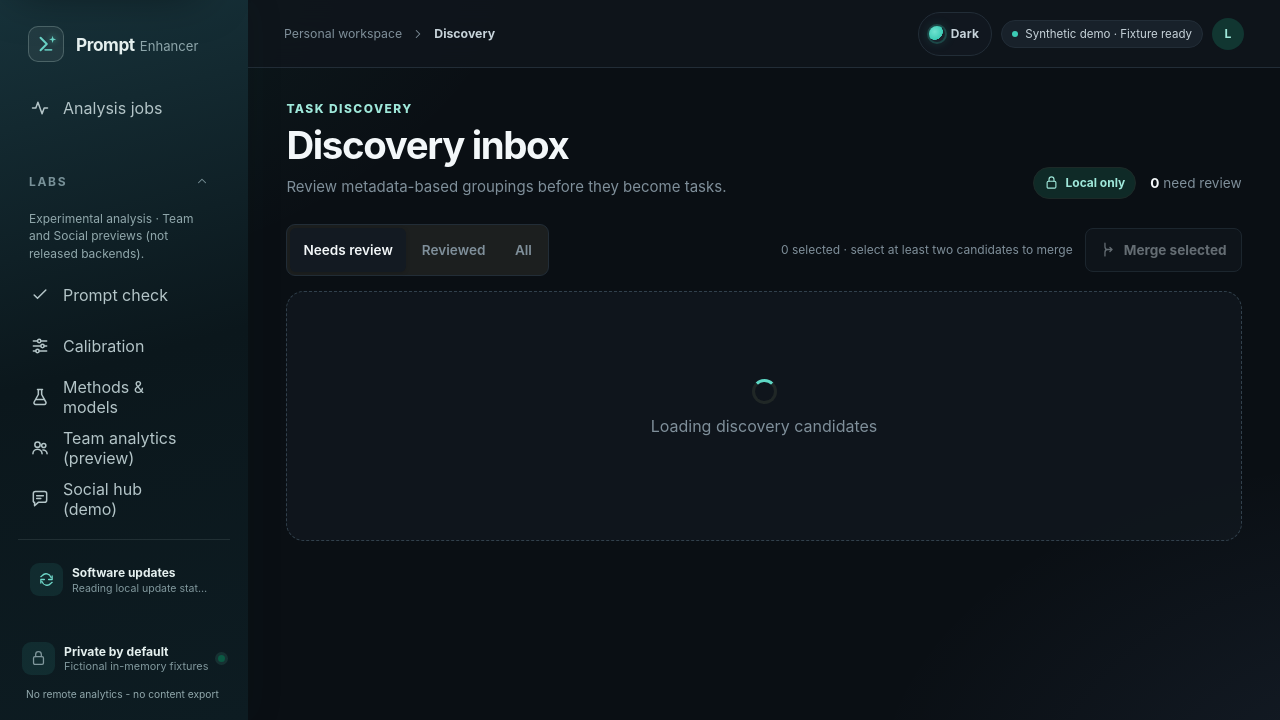
Test: scoped analytics and task flow routes › navigates to Team analytics with the synthetic port and a scoped trail
Earlier steps of the test are not shown.
(page scrolled)
Click the button "Team analytics (preview)" at (119, 448), box [18,425,220,471]
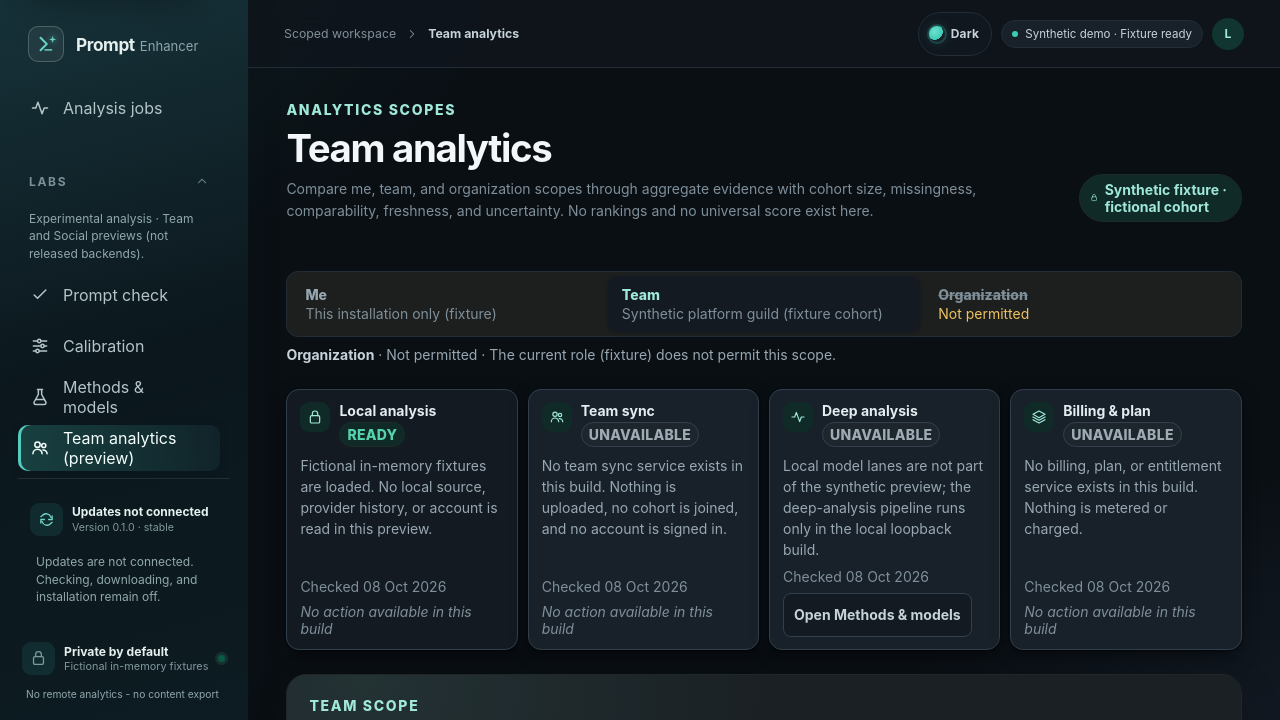
Now the heading "Team analytics" is shown, box [286,125,552,171]
Now the element named "Current location" shows "Scoped workspace", box [284,26,396,41]
Now the element named "Analytics scope" is shown, box [286,270,1242,336]
